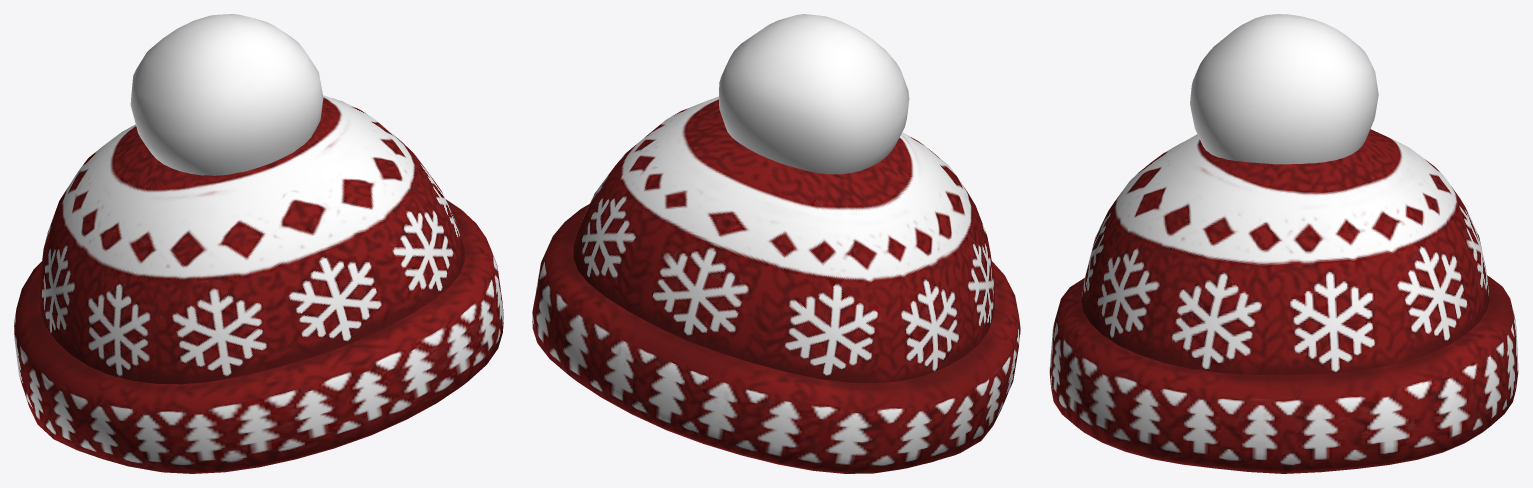
File: doodad_winter_hat.fbx
3 views of the same model, side by side, from view 1: azimuth 30°, elevation 25°; view 2: azimuth 150°, elevation 25°; view 3: azimuth 270°, elevation 25° (orthographic). The views are drawn at different scales.
Visible parts, largest first — view 1: doodad_winter_hat; view 2: doodad_winter_hat; view 3: doodad_winter_hat.
Boxes of the visible parts, x1,y1,x2,y2 form: doodad_winter_hat: (14,14,503,473); doodad_winter_hat: (532,14,1020,473); doodad_winter_hat: (1049,14,1518,473).
Size of the model in its own units: 0.223 by 0.192 by 0.2064.
